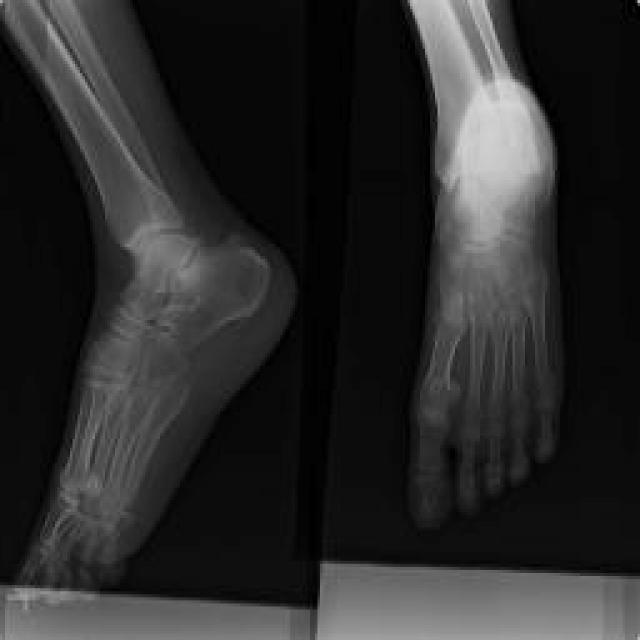normal: (4, 0, 268, 603), (408, 0, 559, 527)
